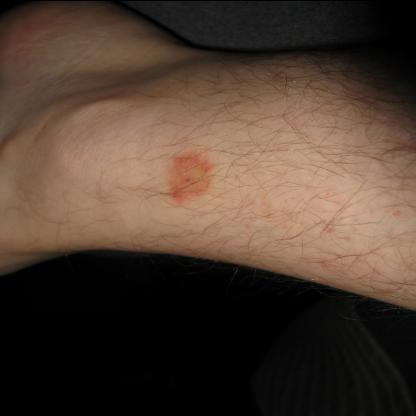Tick: (164, 147, 216, 207)
